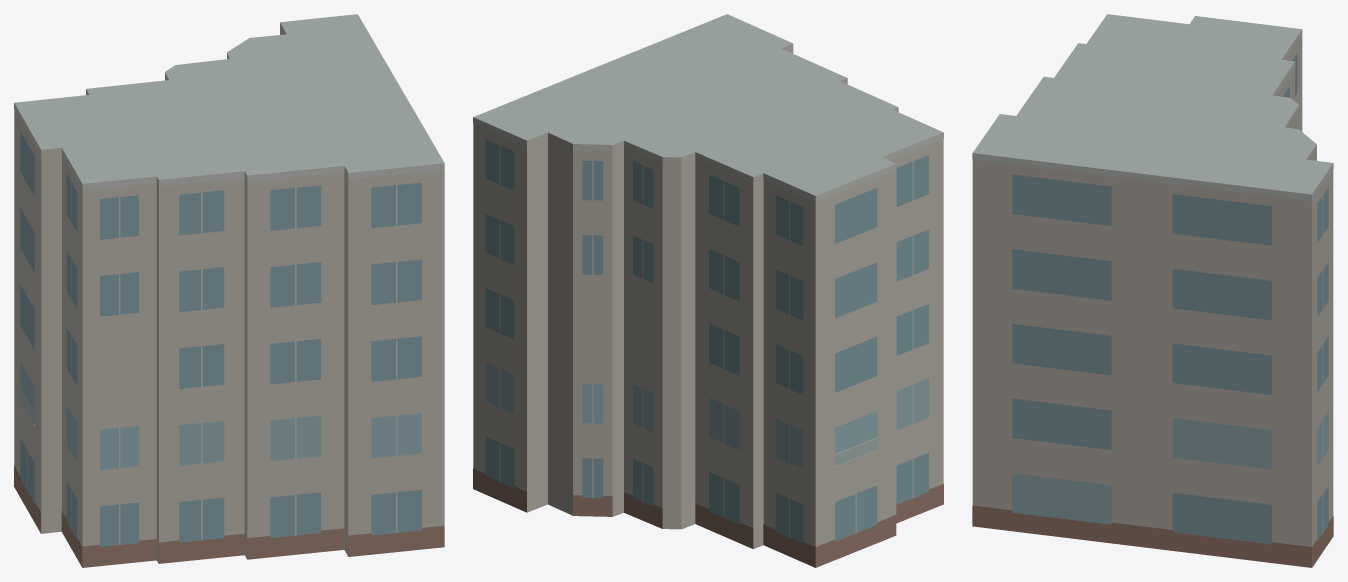
Rendered from survey-upis-32526184.glb.
3 views of the same model, side by side, from view 1: azimuth 30°, elevation 25°; view 2: azimuth 150°, elevation 25°; view 3: azimuth 270°, elevation 25° (orthographic). The views are drawn at different scales.
Parts seen in each view (by area): view 1: survey-upis-32526184.tmp; view 2: survey-upis-32526184.tmp; view 3: survey-upis-32526184.tmp.
Part boxes in pixels (<box>): survey-upis-32526184.tmp: <box>14,14,444,567</box>; survey-upis-32526184.tmp: <box>473,14,943,567</box>; survey-upis-32526184.tmp: <box>972,14,1333,567</box>.
Size of the model in its own units: 14.94 by 14.4 by 12.63.
